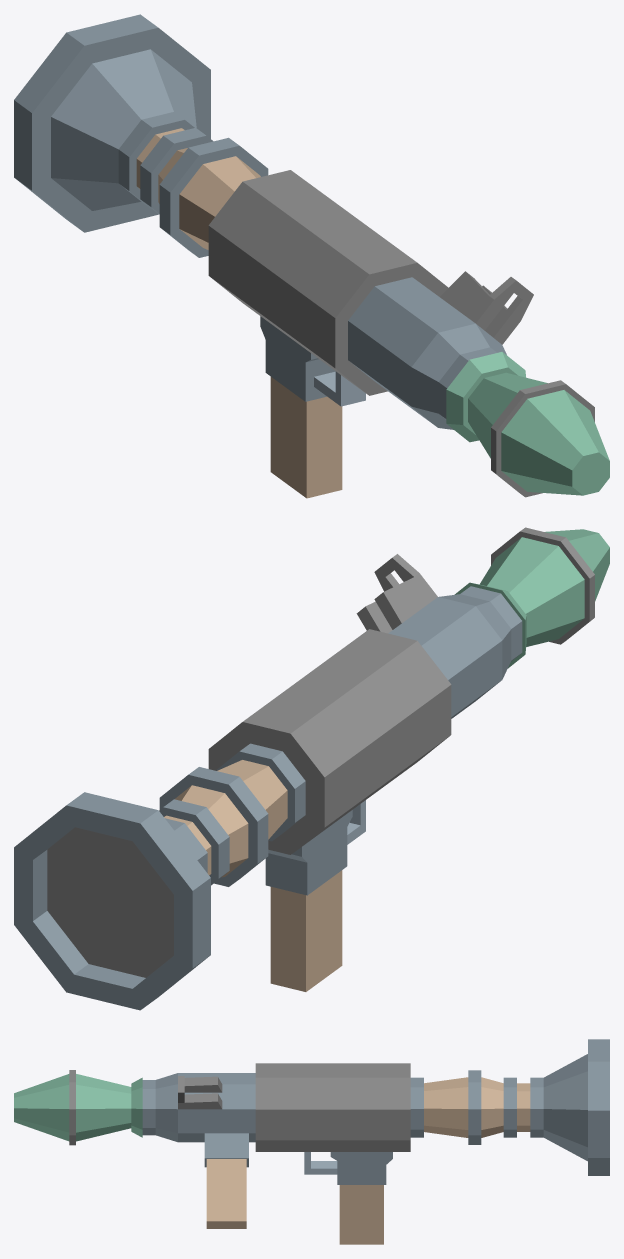
Rendered from kenney-weapon-rocketlauncher-side.glb.
3 renders of one model, top to bottom at view 1: azimuth 30°, elevation 25°; view 2: azimuth 150°, elevation 25°; view 3: azimuth 270°, elevation 25°, orthographic. The views are drawn at different scales.
Visible parts, largest first — view 1: Group (×2); view 2: Group (×2); view 3: Group (×2).
Part boxes in pixels (x1=…): Group (×2): x1=14, y1=14, x2=609, y2=498; Group (×2): x1=14, y1=527, x2=609, y2=1010; Group (×2): x1=14, y1=1039, x2=609, y2=1244.
Size of the model in its own units: 0.2753 by 0.3597 by 1.03.
